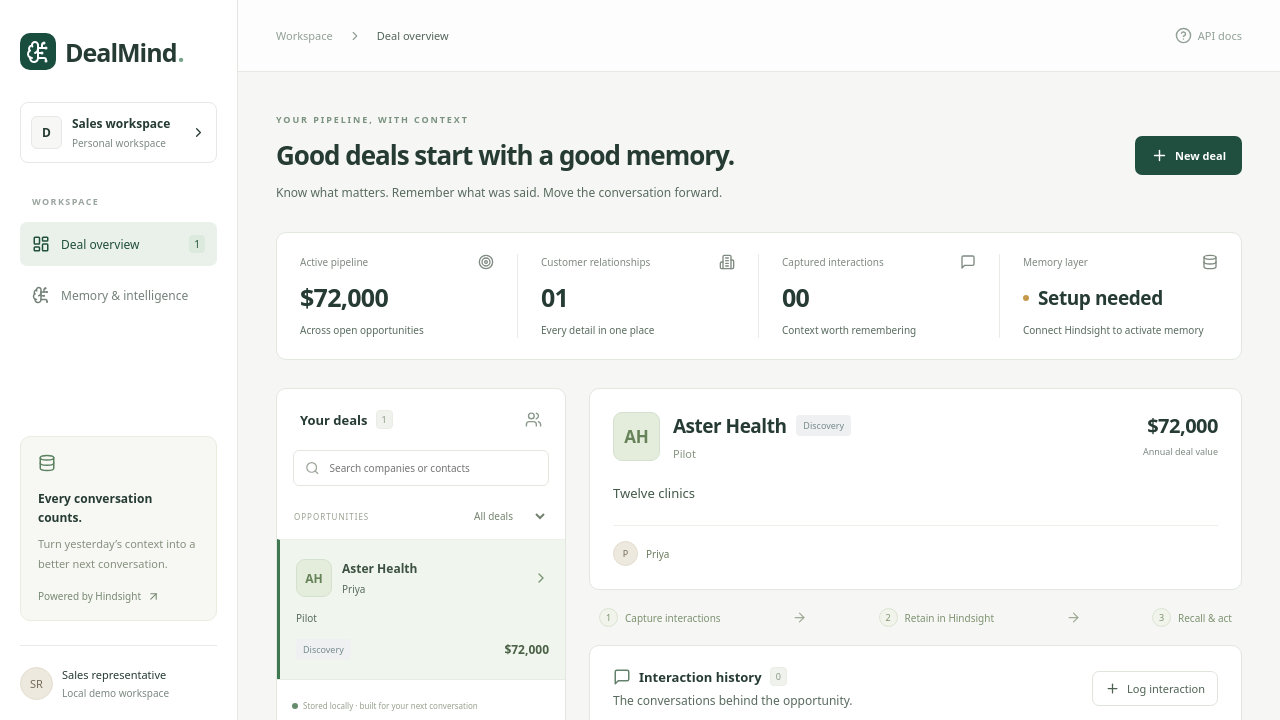
DealMind dashboard › loads actual API records, searches, and shows empty results
Expected: the text "Twelve clinics" is shown, [613,484,695,502]
Expected: the text "Setup needed" is shown, [1023,285,1163,311]
In the field named "Search deals": (437, 468) [326,451,548,485], type "missing"
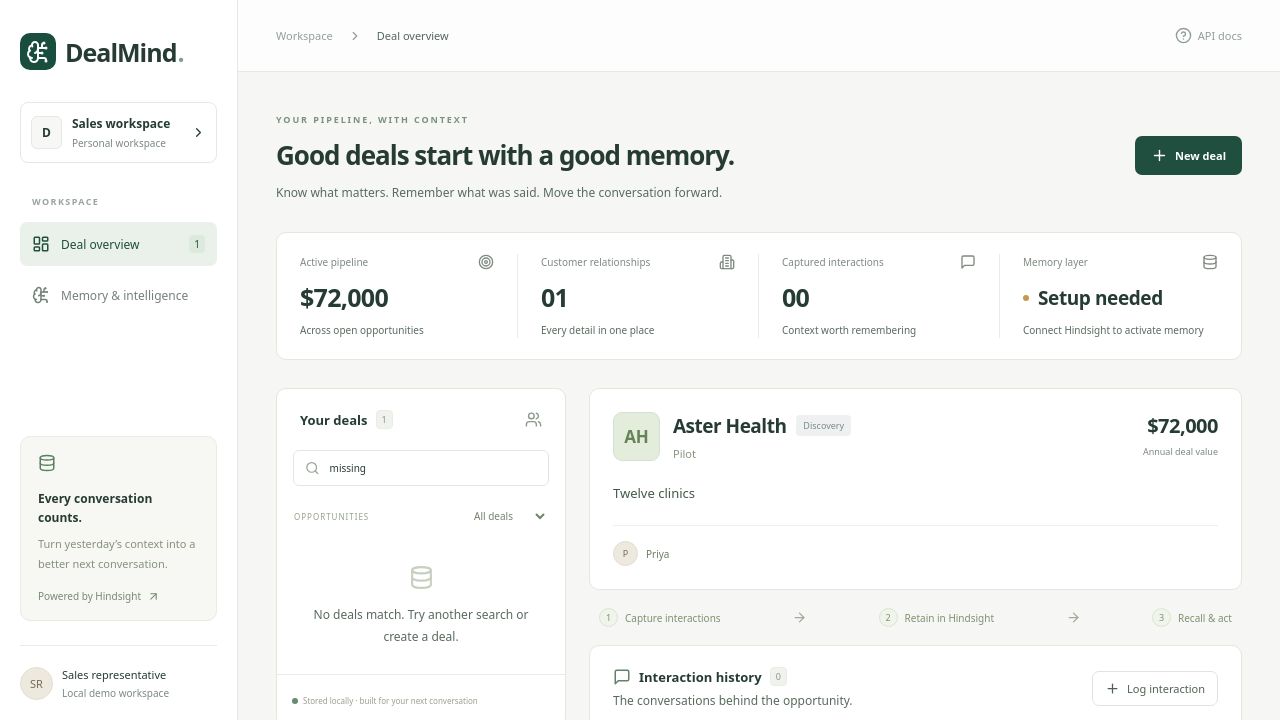
Result: the text "No deals match. Try another search or create a deal." is shown at [301,604,541,648]
